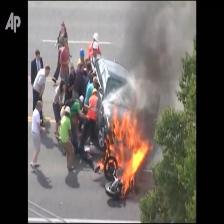fire: (105, 120, 146, 190)
smoke: (132, 10, 176, 113)
